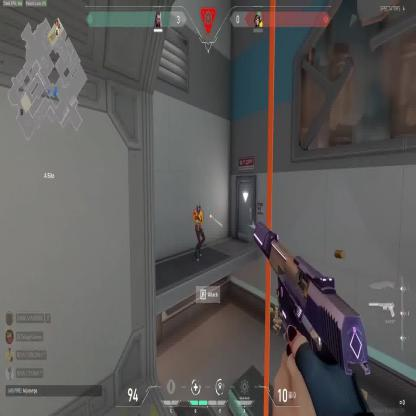enemy: (192, 200, 206, 261)
enemy_head: (196, 200, 201, 213)
